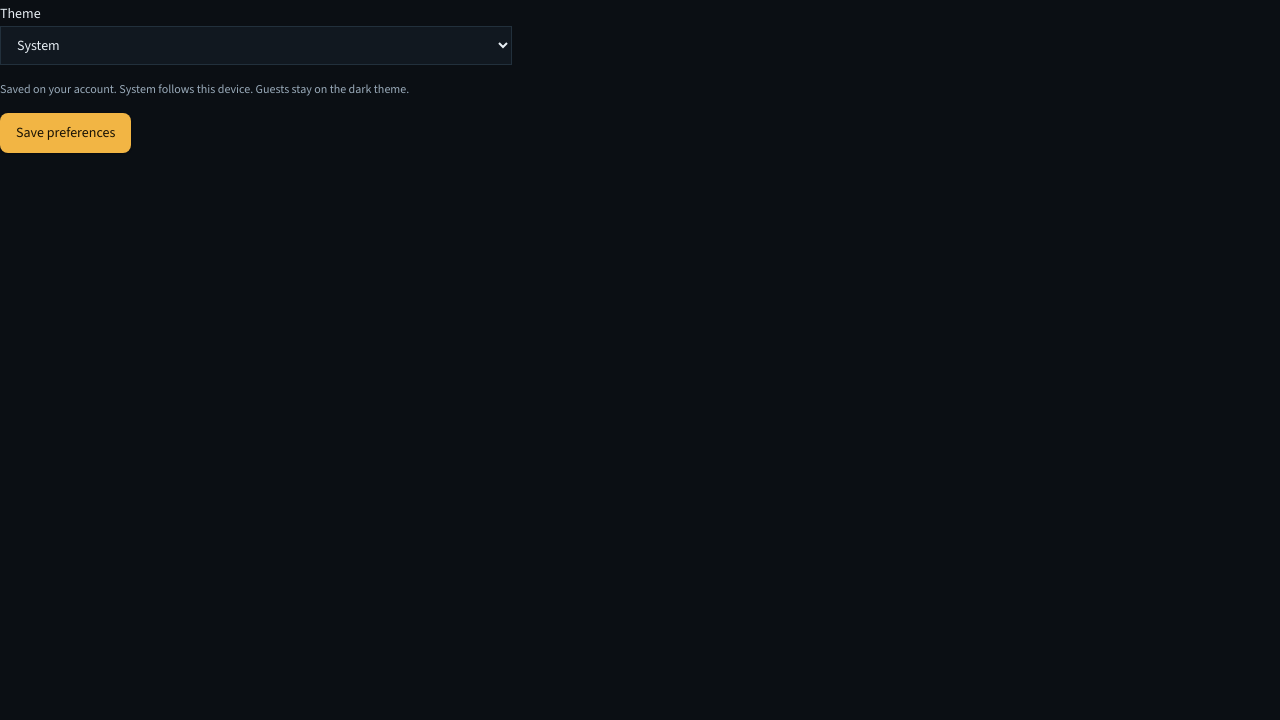
ThemeSettingsForm › applies the saved theme on the document
Step 1. Select "Light" in the dropdown labelled "Theme" → (256, 45), box [0,26,512,65]
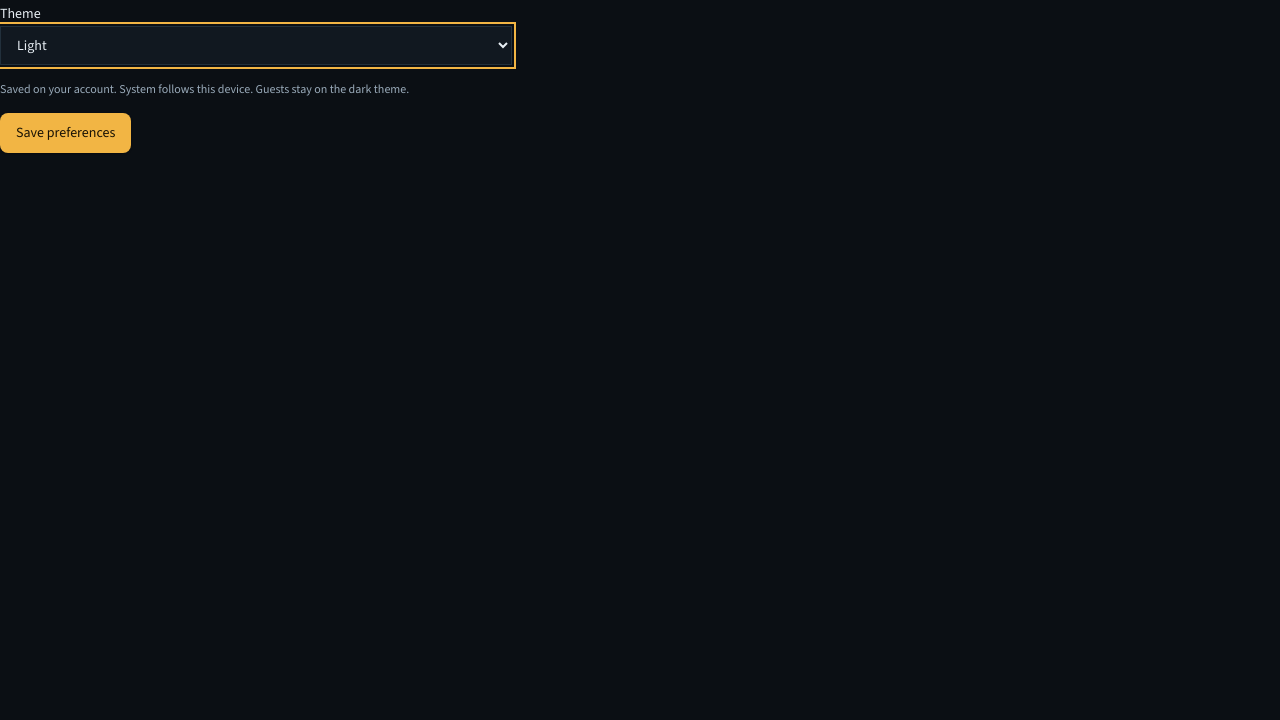
Step 2. Click the button "Save preferences" → click(66, 133), box [0,113,131,153]
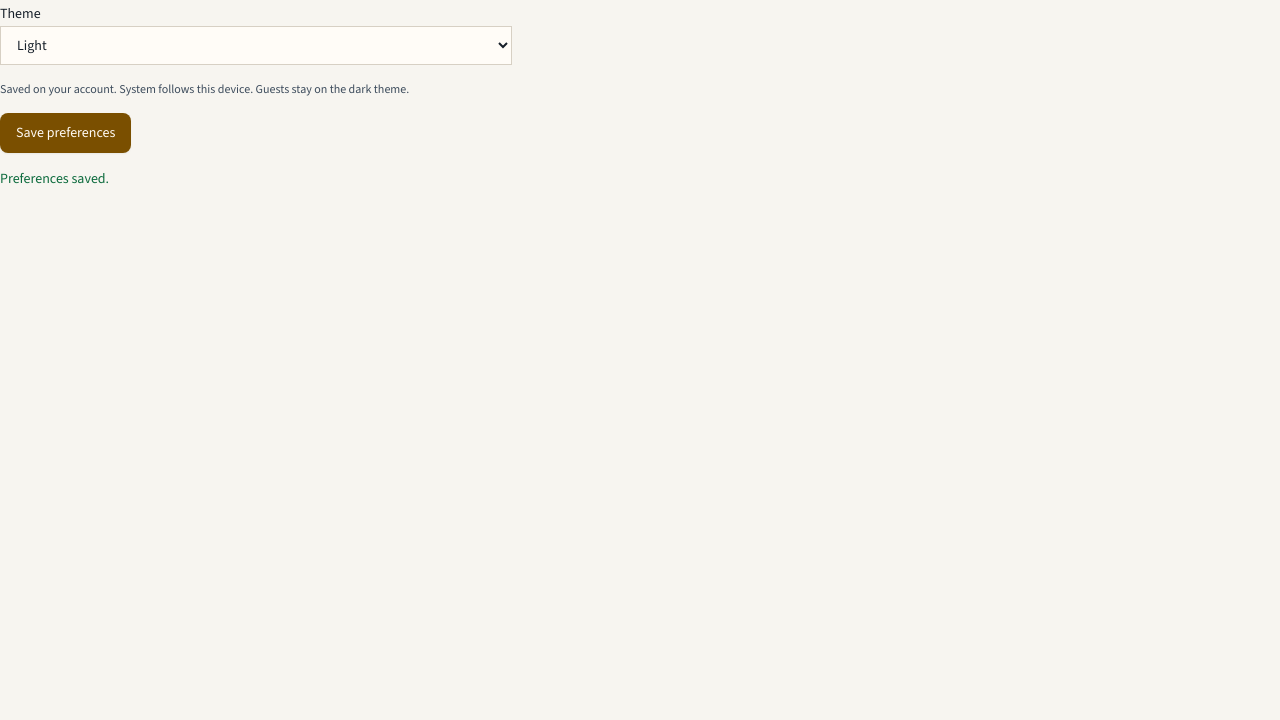
Now the message shows "saved", box [0,169,109,188]
